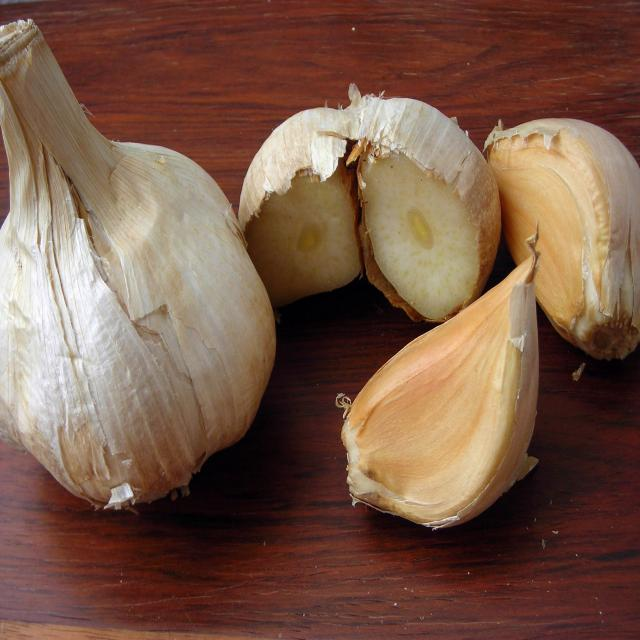garlic: (0, 101, 271, 515), (332, 285, 541, 528), (529, 109, 640, 362)
